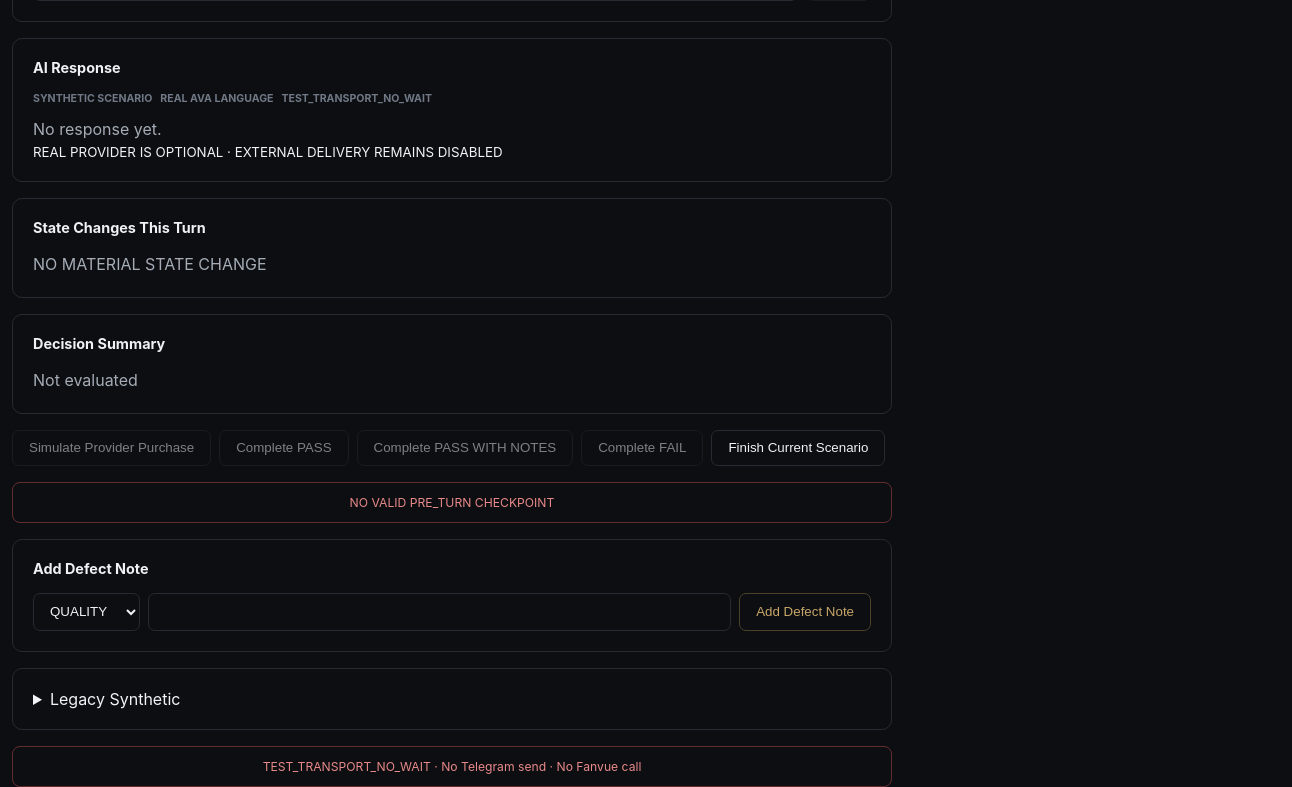
Test case: TestChatPage Session 5 scenario lab › finishes a completed scenario through snapshot reset and clean verification
The width and height of the screenshot is (1292, 787).
(page scrolled)
Click the button "Finish Current Scenario" at (798, 448), box [711,430,885,466]
(page scrolled)
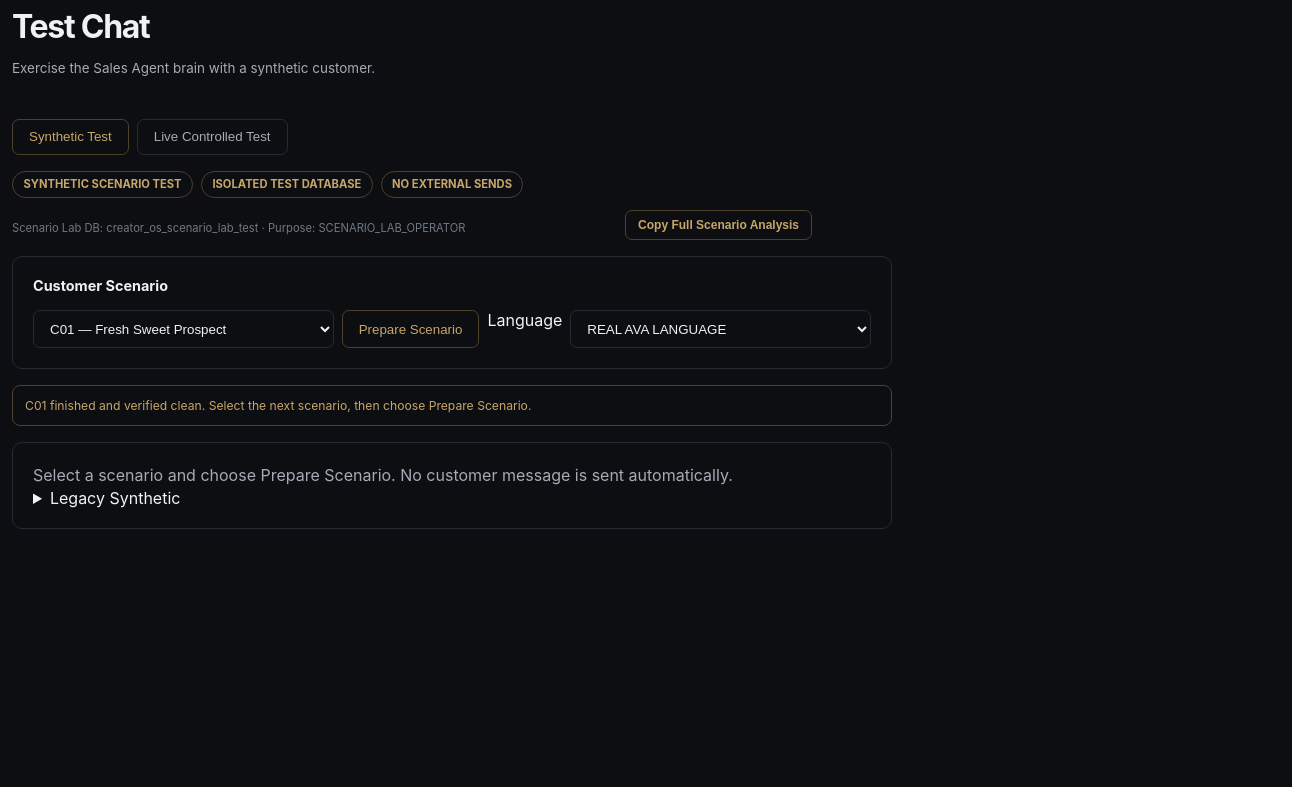
Expected: the dropdown labelled "Language" shows "REAL AVA LANGUAGE", [570,310,871,348]
Expected: the dropdown named "Customer Scenario" is enabled, [33,310,334,348]
